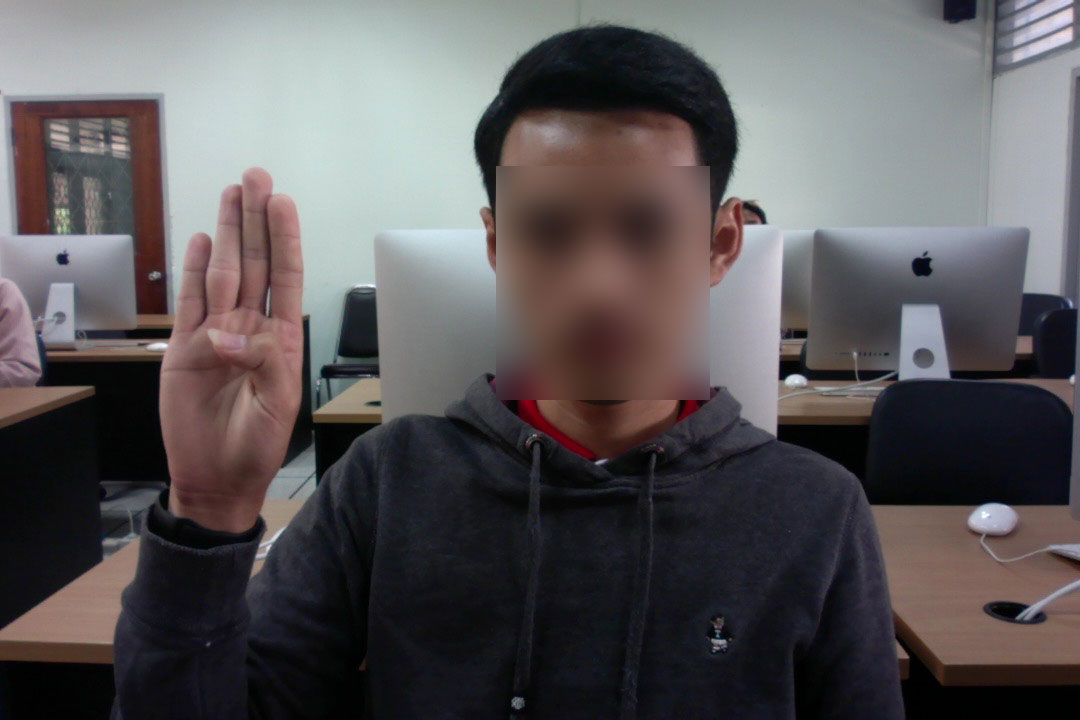bor: (118, 154, 345, 534)
